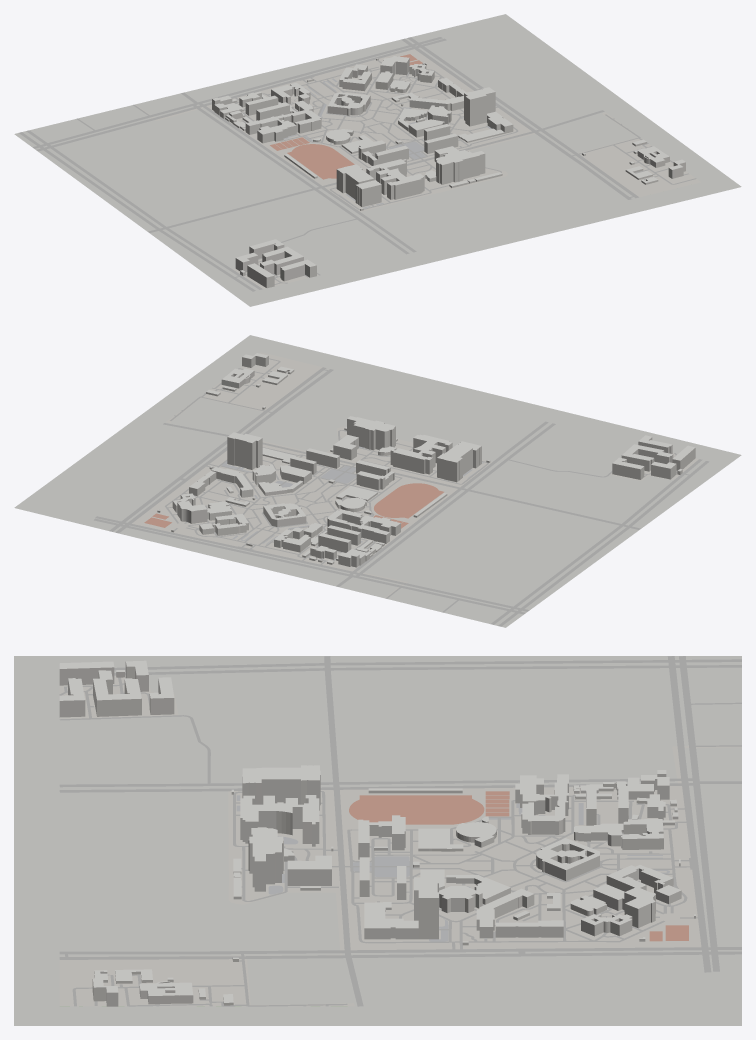
The model's file is campus.glb.
3 views of the same model, one above another, from view 1: azimuth 30°, elevation 25°; view 2: azimuth 150°, elevation 25°; view 3: azimuth 270°, elevation 25° (orthographic). The views are drawn at different scales.
Parts seen in each view (by area): view 1: CUP Beijing campus; view 2: CUP Beijing campus; view 3: CUP Beijing campus.
Part boxes in pixels (<box>): CUP Beijing campus: <box>14,14,741,306</box>; CUP Beijing campus: <box>14,335,741,627</box>; CUP Beijing campus: <box>14,656,741,1025</box>.
Bounding box in the file's own units: 1146 × 60 × 954.
